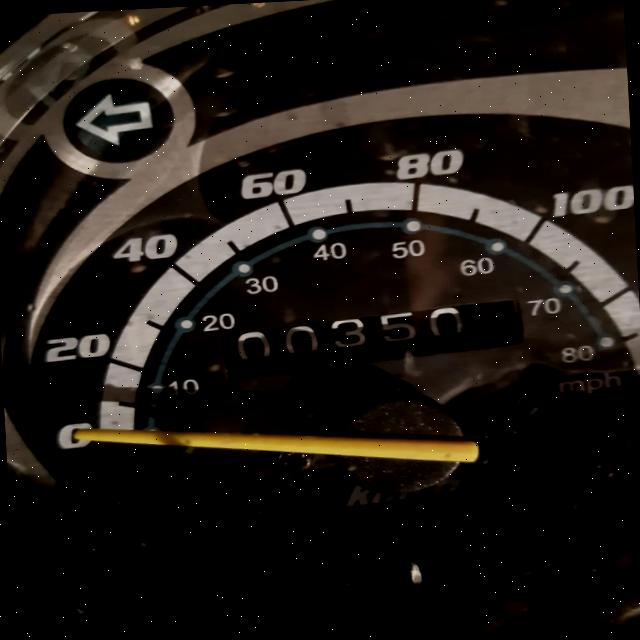odometer: (220, 294, 534, 374)
